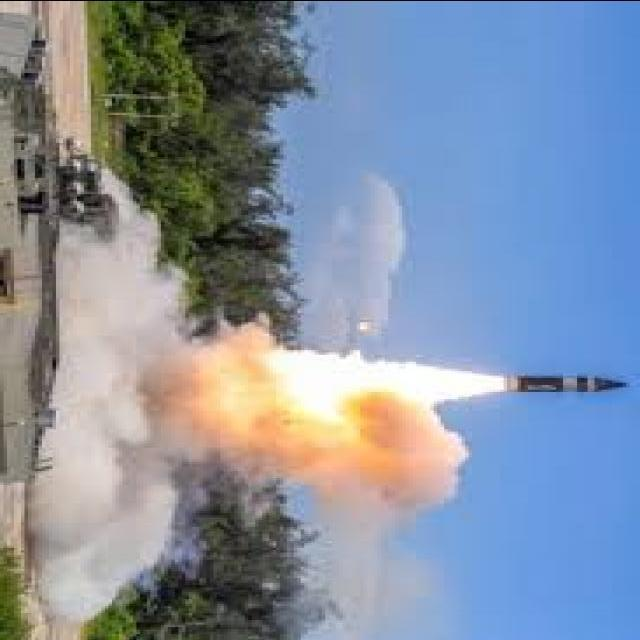missile: (511, 366, 640, 399)
